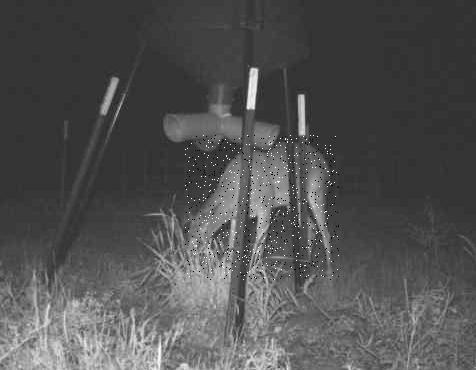Deer: (185, 136, 339, 281)
